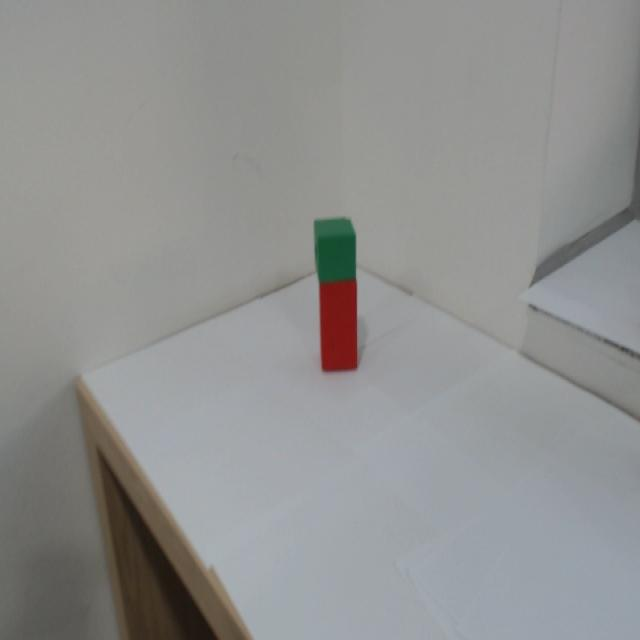cube: (310, 212, 367, 285)
